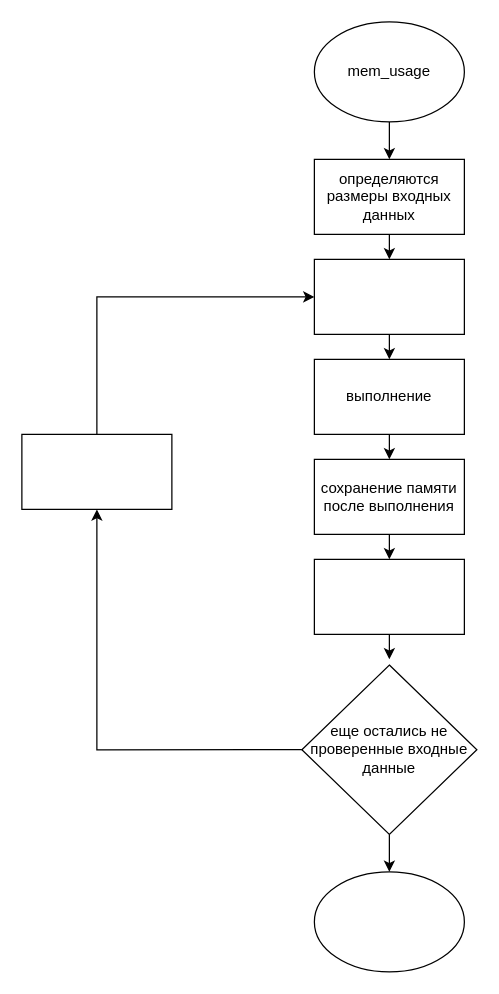
Some shapes in this 499 by 994 pixel diagram are drawn without their labels. Each missing label, with the centre of its shape:
очистка памяти: point (388, 596)
проверка следующих входных данных: point (96, 471)
сохранение памяти до выполнения: point (388, 296)
